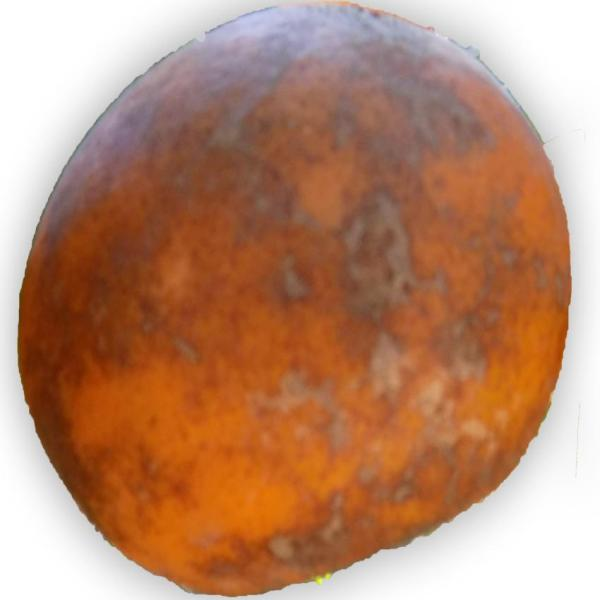Canker: (5, 0, 576, 597)
